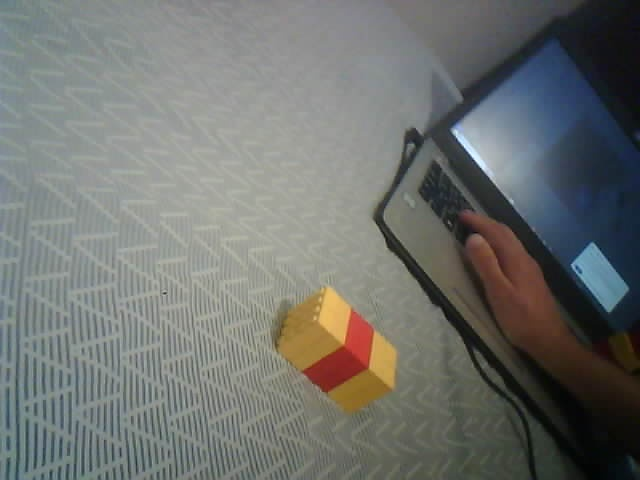lego: (274, 285, 398, 416)
